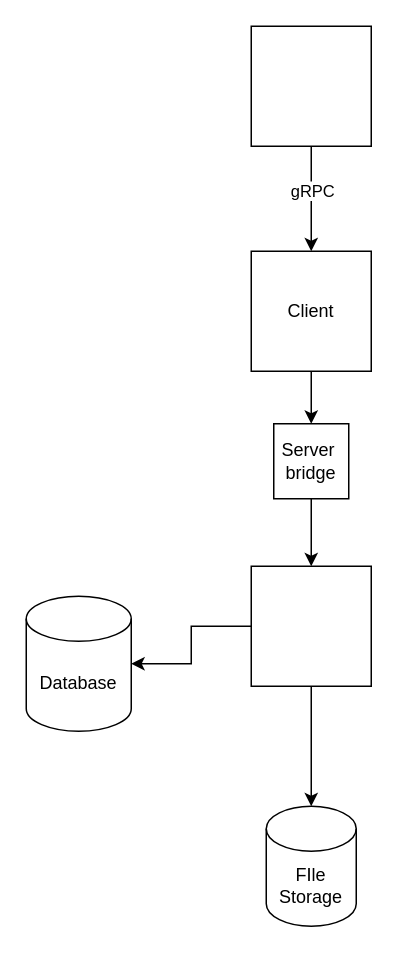
This 398x953 diagram has some shape labels left out. Here are the shapes that lost their labels. From the top down, the centre of each, then its label:
At point (310, 85): "CEF".
At point (310, 625): "Server".
